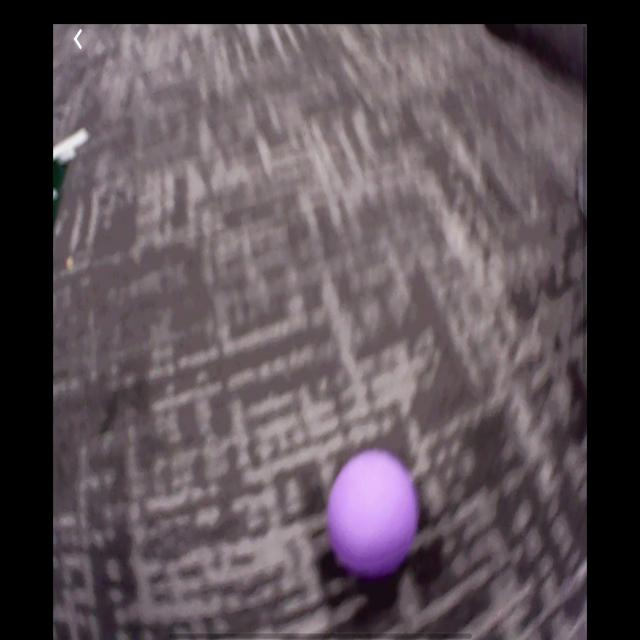ball: (331, 451, 415, 578)
